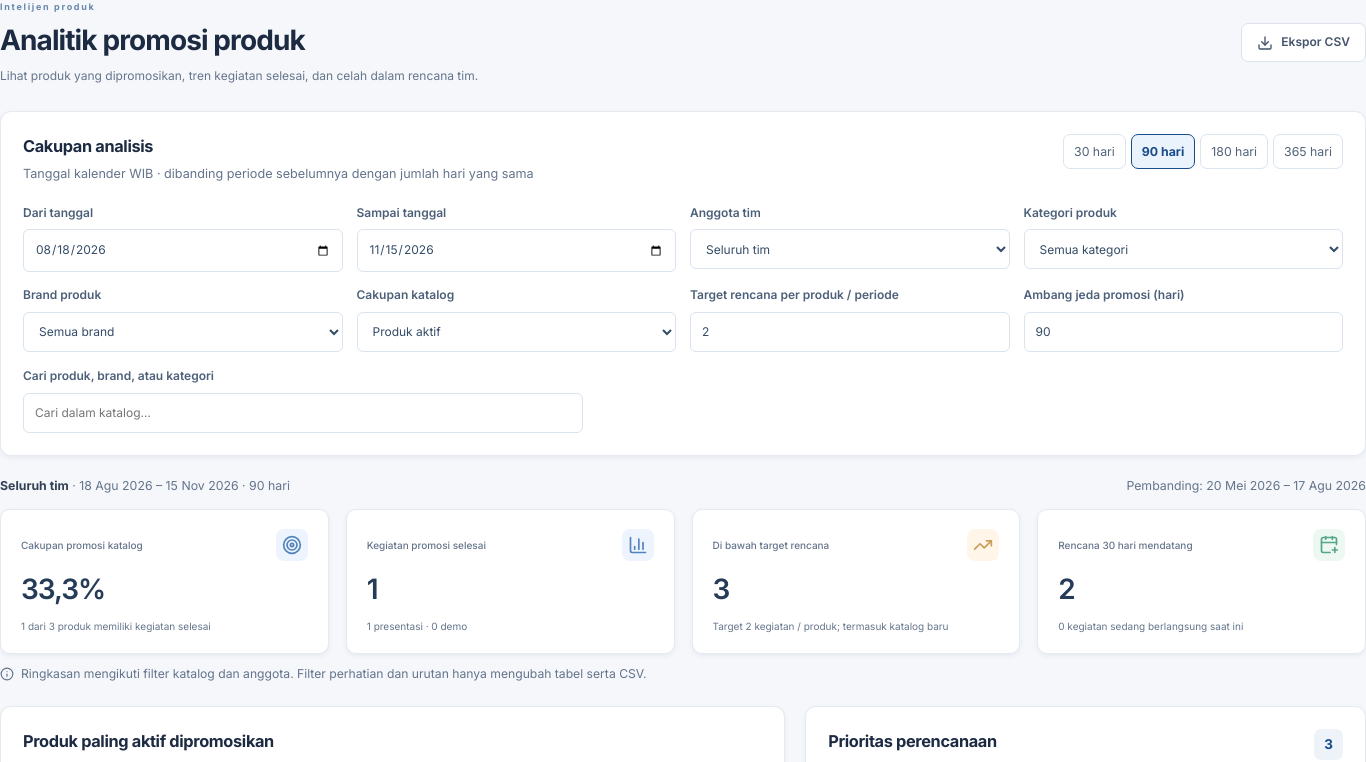
product analytics decision flows › rejects a future analysis end without showing misleading totals or allowing CSV
The image size is (1366, 762).
Type "2026-11-16" into the date field labelled "Sampai tanggal" at coordinates (516, 251), box left=356, top=229, right=676, bottom=272
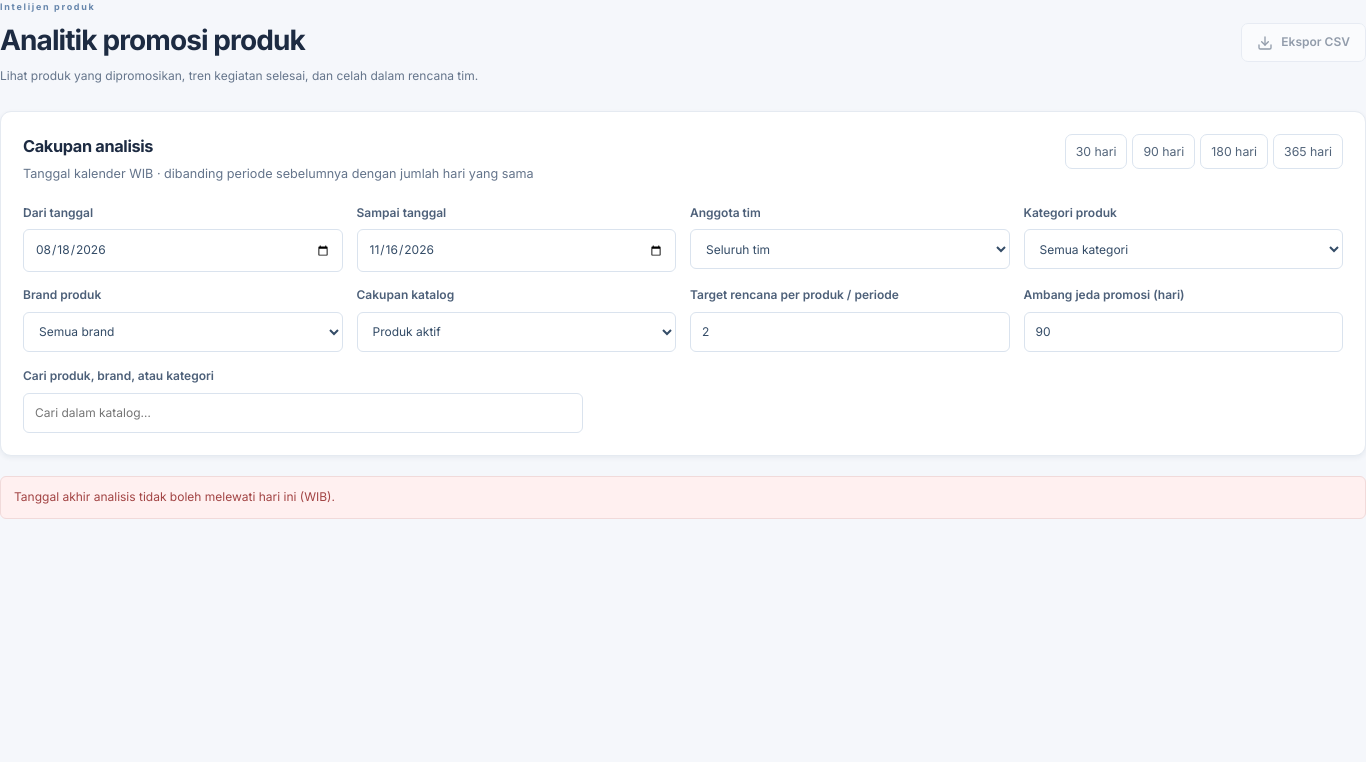
Now the message reads "Tanggal akhir analisis tidak boleh melewati hari ini (WIB).", box left=14, top=489, right=335, bottom=504
Now the button "Ekspor CSV" is disabled, box left=1241, top=23, right=1365, bottom=62
